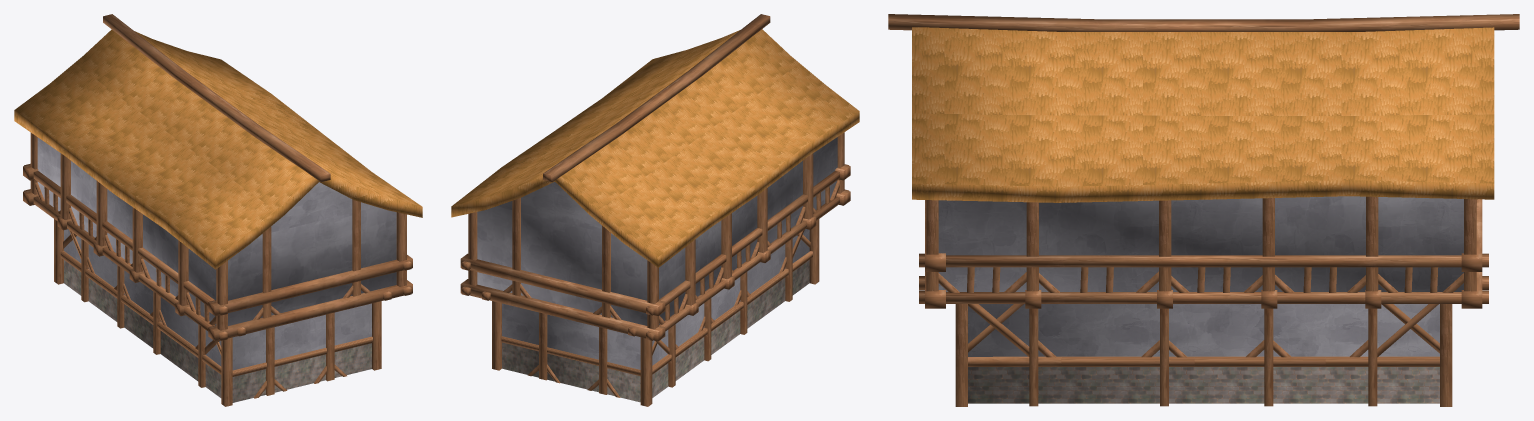
File: Building_11.fbx
3 views of the same model, side by side, from view 1: azimuth 30°, elevation 25°; view 2: azimuth 150°, elevation 25°; view 3: azimuth 270°, elevation 25° (orthographic). The views are drawn at different scales.
Visible parts, largest first — view 1: Building_11; view 2: Building_11; view 3: Building_11.
Boxes of the visible parts, x1,y1,x2,y2 form: Building_11: (14,14,422,406); Building_11: (451,14,859,406); Building_11: (888,14,1519,406).
Bounding box in the file's own units: 7.51 × 8 × 13.71.
